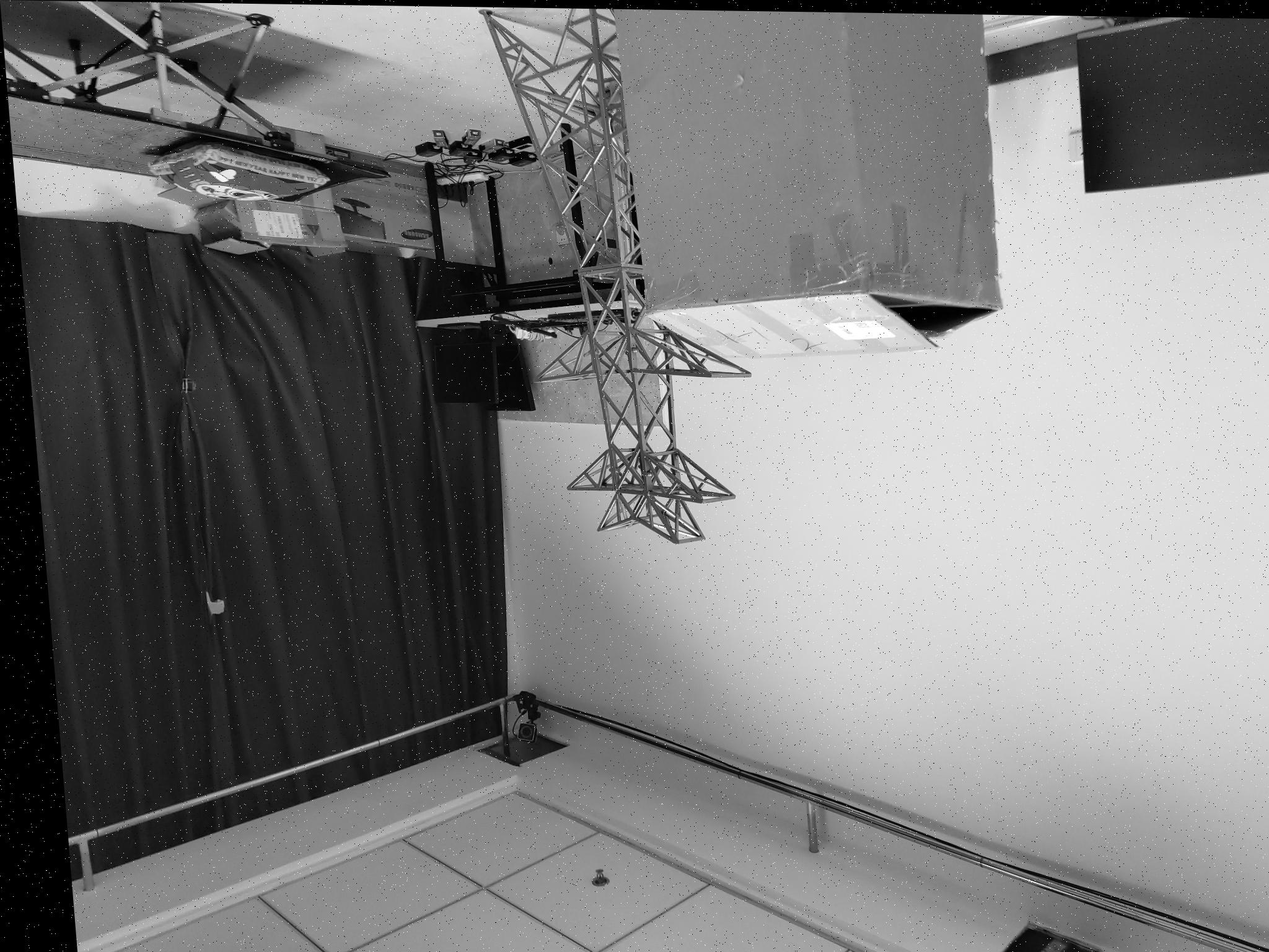tower: (480, 7, 716, 540)
